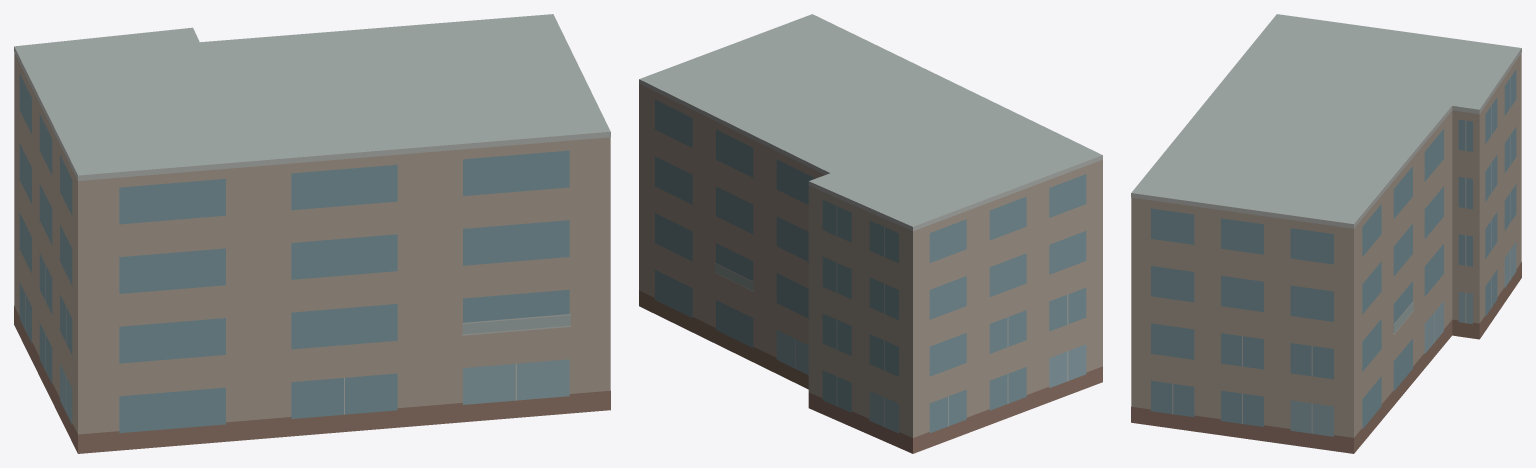
The model's file is survey-upis-32969862.glb.
3 renders of one model, left to right at view 1: azimuth 30°, elevation 25°; view 2: azimuth 150°, elevation 25°; view 3: azimuth 270°, elevation 25°, orthographic. The views are drawn at different scales.
Visible parts, largest first — view 1: survey-upis-32969862.tmp; view 2: survey-upis-32969862.tmp; view 3: survey-upis-32969862.tmp.
Part boxes in pixels (x1,y1,x2,y2): survey-upis-32969862.tmp: (14, 14, 610, 453); survey-upis-32969862.tmp: (639, 14, 1102, 453); survey-upis-32969862.tmp: (1131, 14, 1521, 453).
Bounding box in the file's own units: 24.34 × 12.4 × 19.12.
